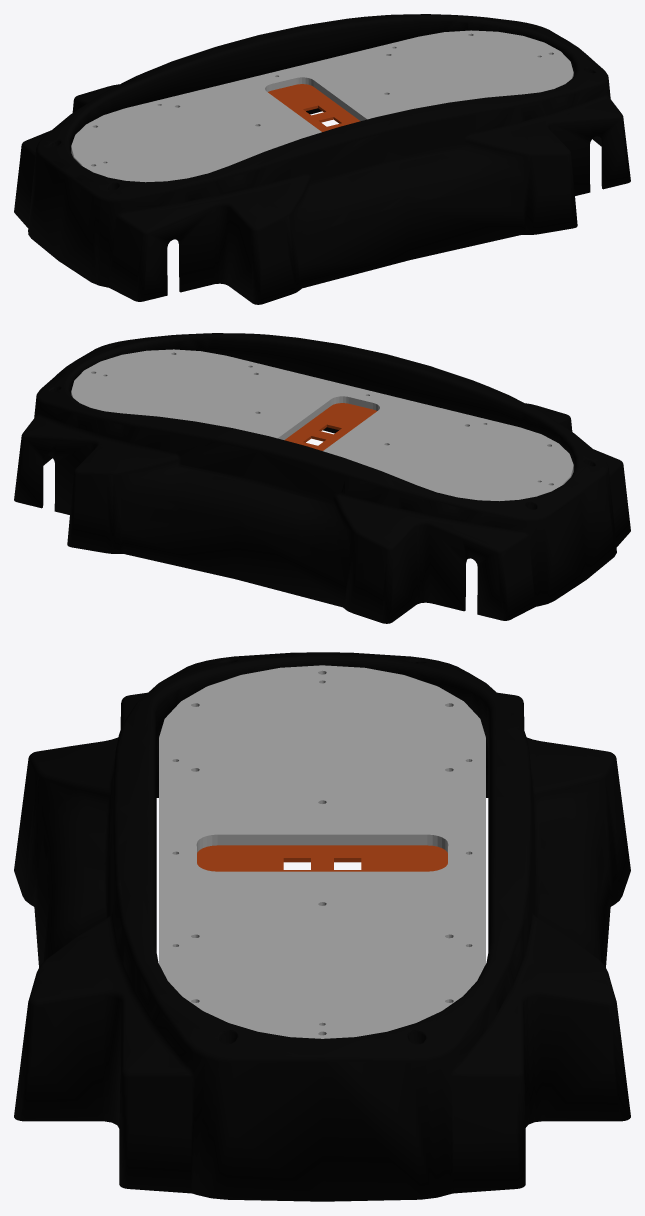
3 views of the same model, one above another, from view 1: azimuth 30°, elevation 25°; view 2: azimuth 150°, elevation 25°; view 3: azimuth 270°, elevation 25° (orthographic). The views are drawn at different scales.
Parts seen in each view (by area): view 1: base_frame; view 2: base_frame; view 3: base_frame.
Part boxes in pixels (bbox=[...]): base_frame: bbox=[14, 14, 630, 304]; base_frame: bbox=[14, 333, 630, 623]; base_frame: bbox=[14, 652, 630, 1201].
Bounding box in the file's own units: 0.5701 × 0.3571 × 0.122.
